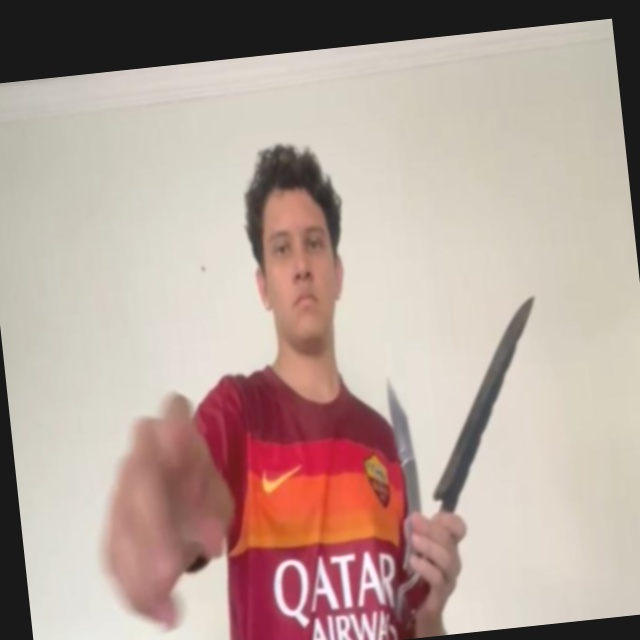Sharp-Object: (414, 295, 555, 504), (385, 376, 414, 467)
